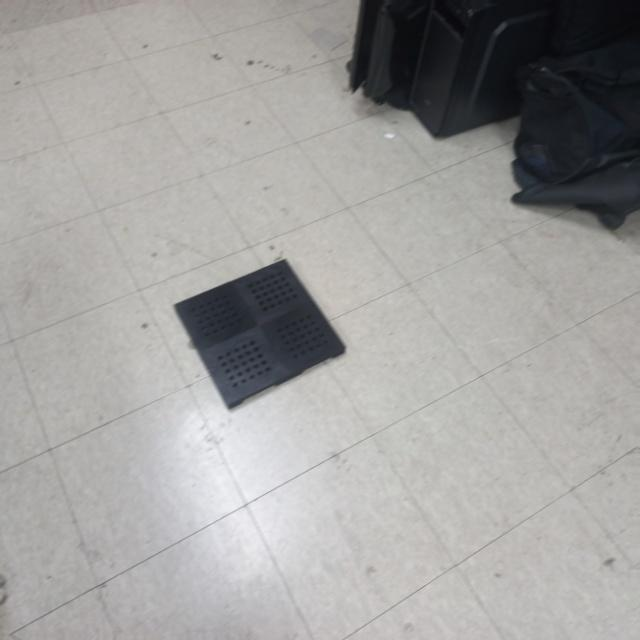pallet: (165, 248, 359, 411)
